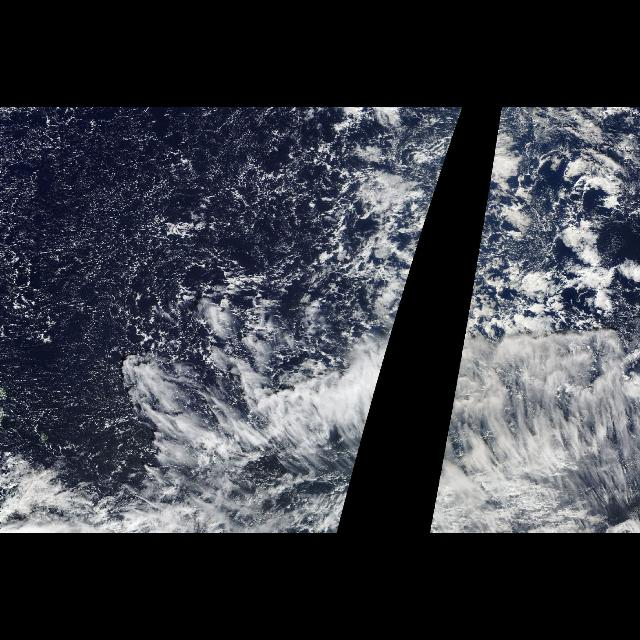Gravel: (0, 108, 326, 446)
